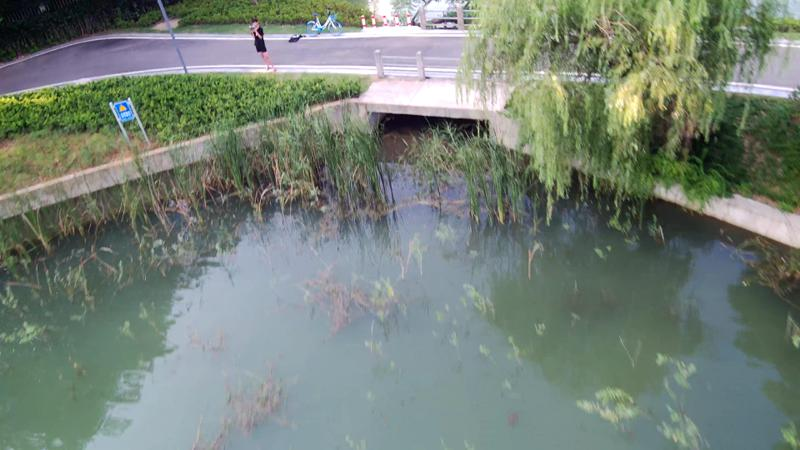passerby: (248, 18, 278, 74)
